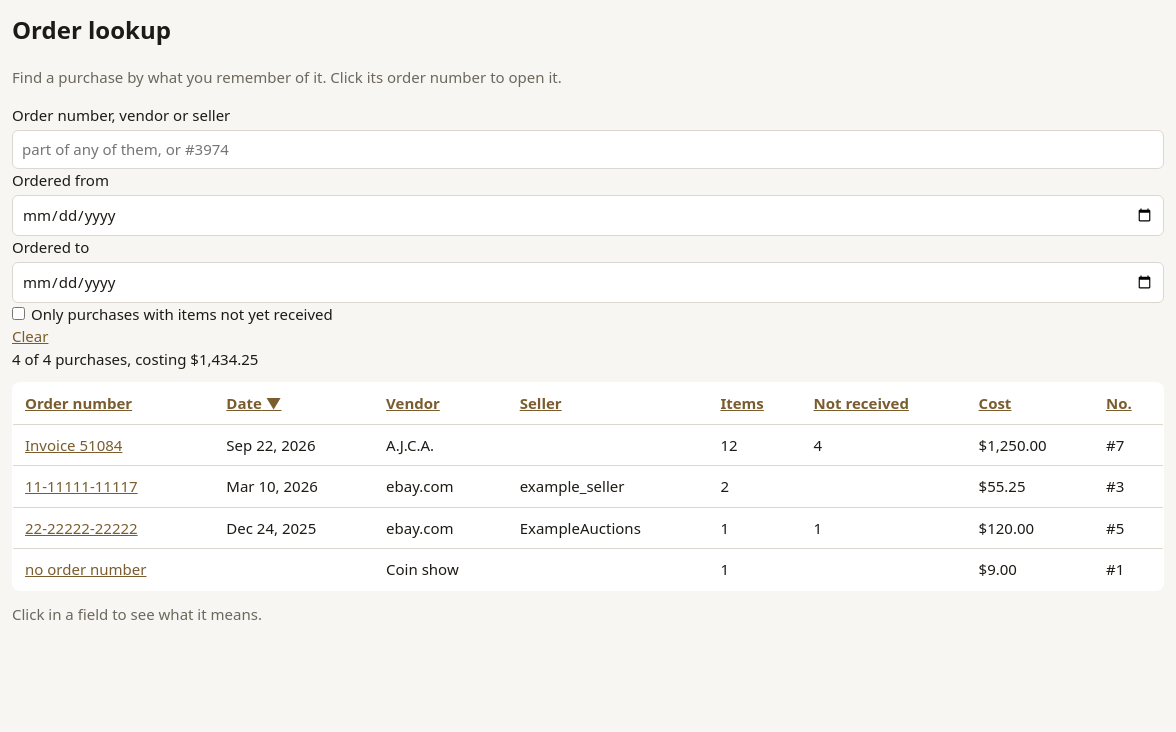
Test: OrderLookup › says so when nothing matches, and Clear brings everything back
The width and height of the screenshot is (1176, 732).
Check: the text "4 of 4 purchases, costing $1,434.25" is shown, box [12,348,258,368]
Click the button "Clear" at (30, 336), box [12,325,48,348]
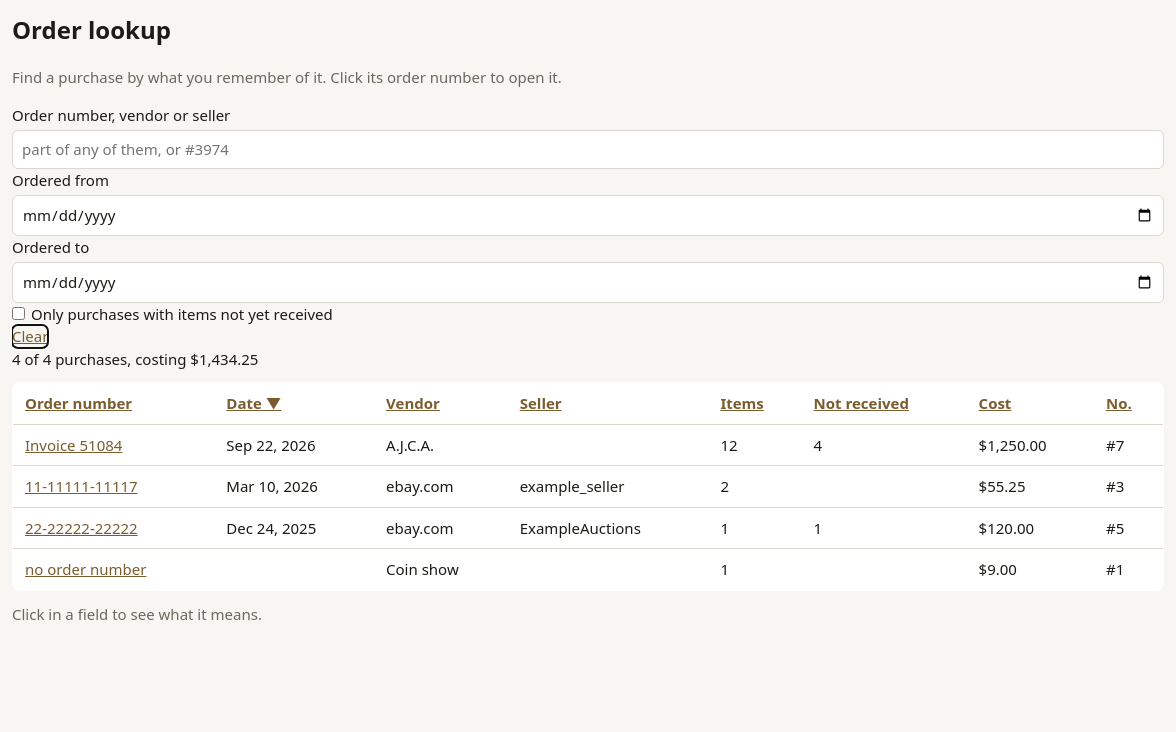
Type "zzz" into the field labelled "Order number, vendor or seller" at (588, 149), box [12,130,1164,168]
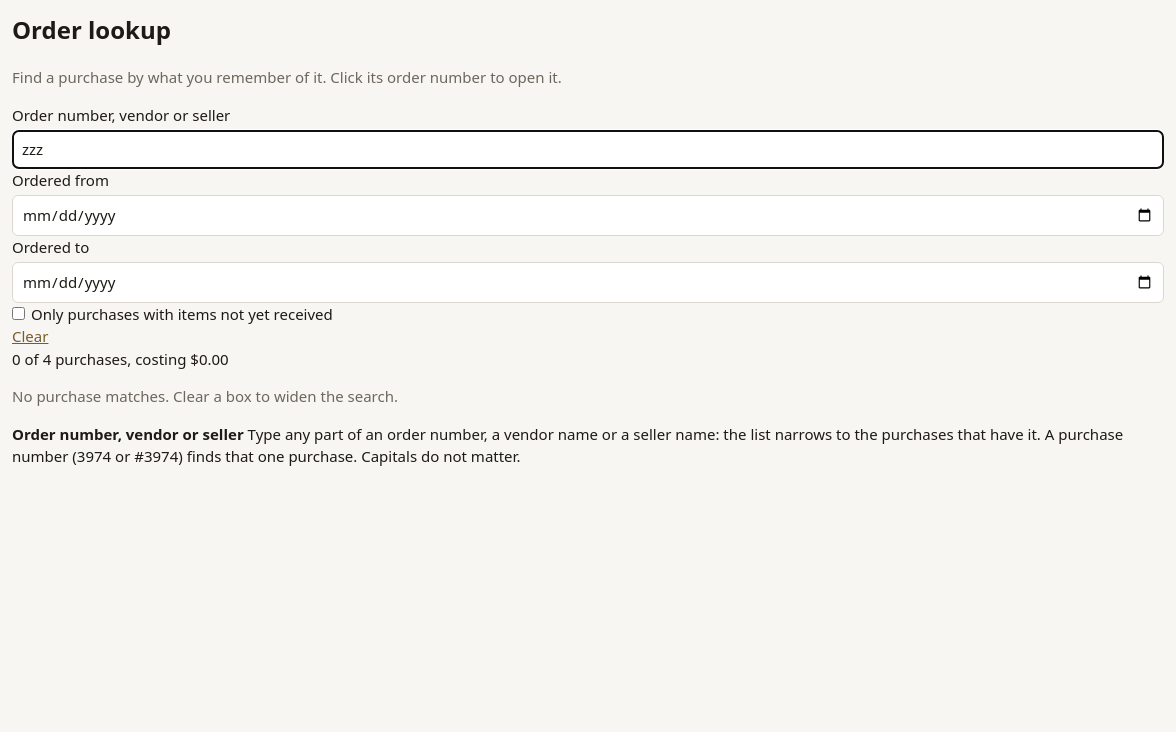
Check: the text "No purchase matches. Clear a box to widen the search." is shown, box [12,386,398,406]
Check: the text "0 of 4 purchases, costing $0.00" is shown, box [12,348,229,368]
Click the button "Clear" at (30, 336), box [12,325,48,348]
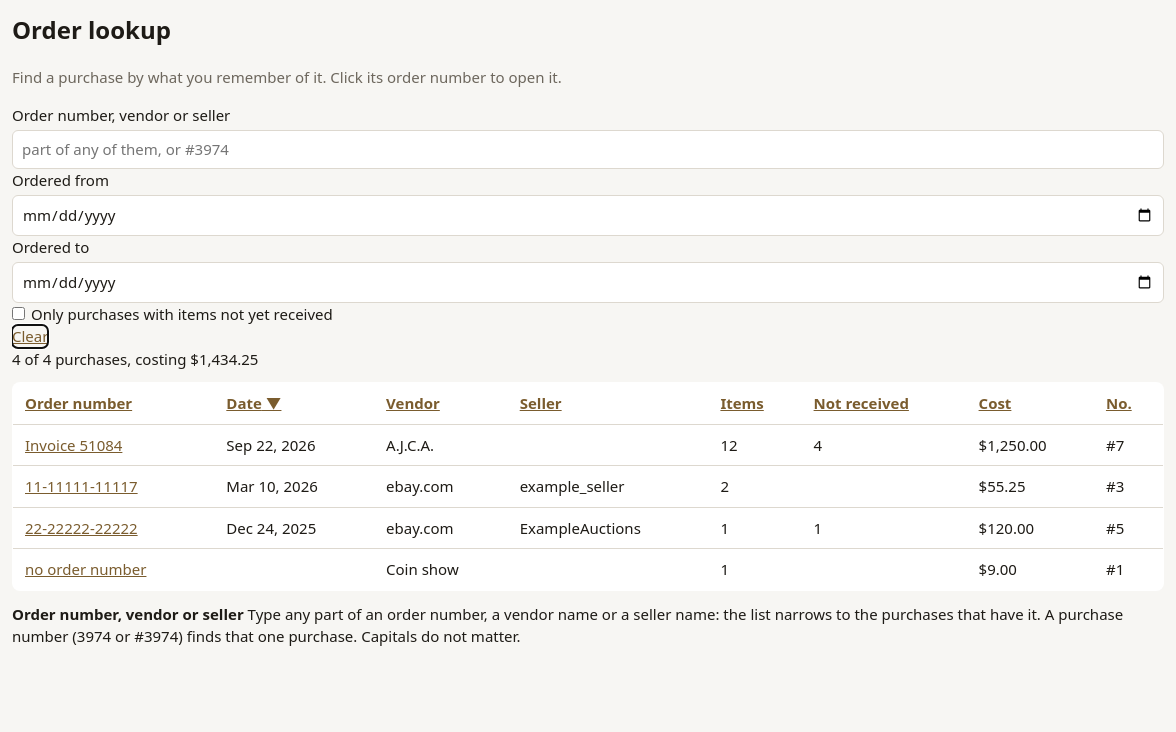
Check: the field labelled "Order number, vendor or seller" is empty, box [12,130,1164,168]
